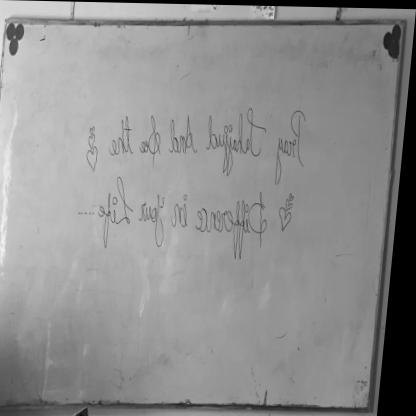Handwritten text: (106, 99, 314, 178), (97, 177, 278, 267)
Whiteboard: (0, 17, 405, 414)
